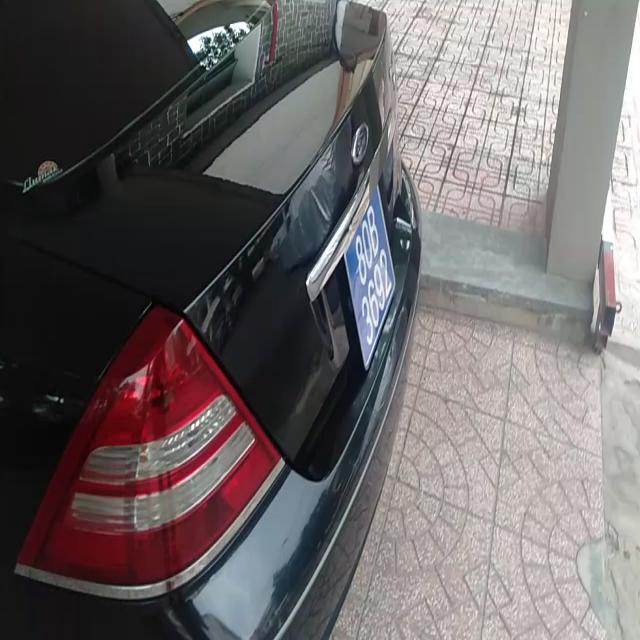bien_xanh: (342, 174, 398, 369)
